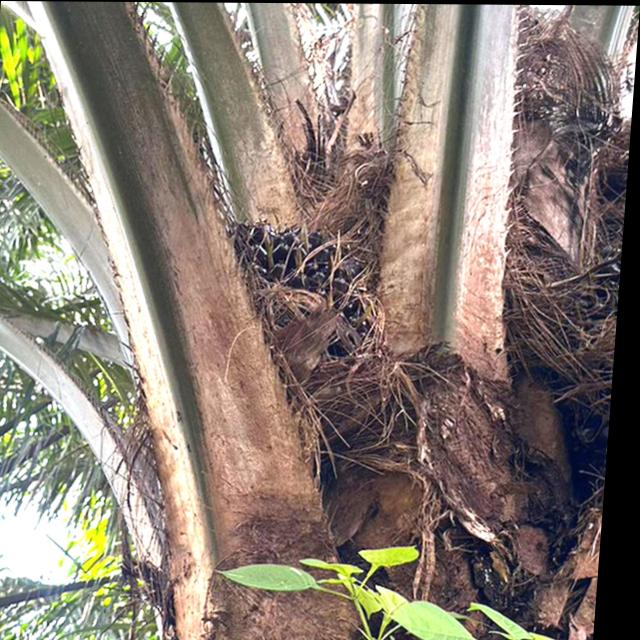ripe: (215, 209, 381, 420)
